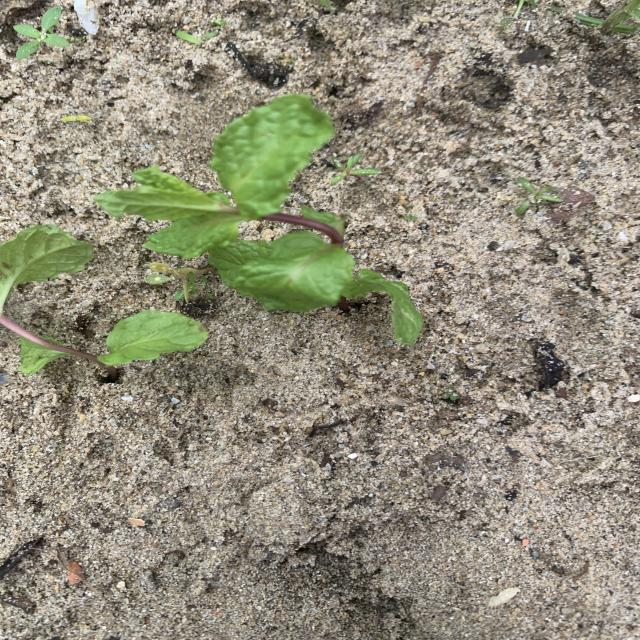crop: (95, 95, 420, 344), (2, 224, 206, 373)
weed: (13, 7, 71, 58), (575, 1, 638, 42), (147, 262, 209, 301), (516, 177, 563, 215), (331, 154, 379, 183), (176, 20, 224, 45), (441, 385, 457, 400), (61, 115, 91, 122), (316, 1, 333, 11), (402, 214, 418, 221)
